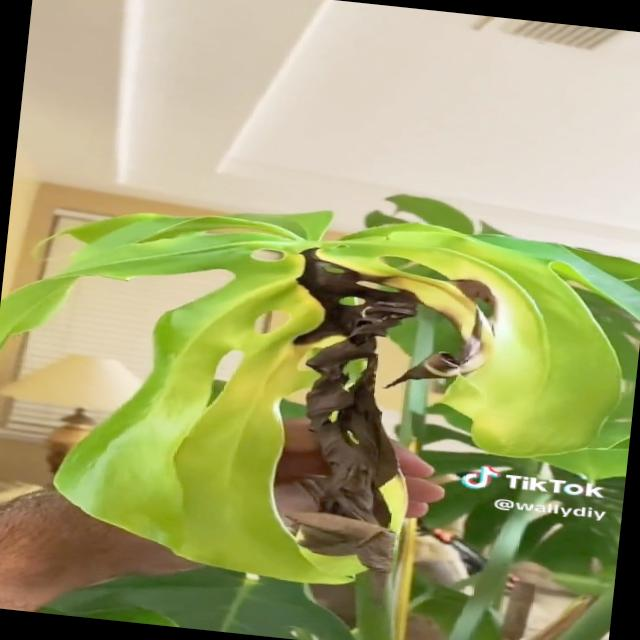lisc_suchy: (0, 191, 640, 586)
roslina_sucha: (0, 203, 640, 640)
